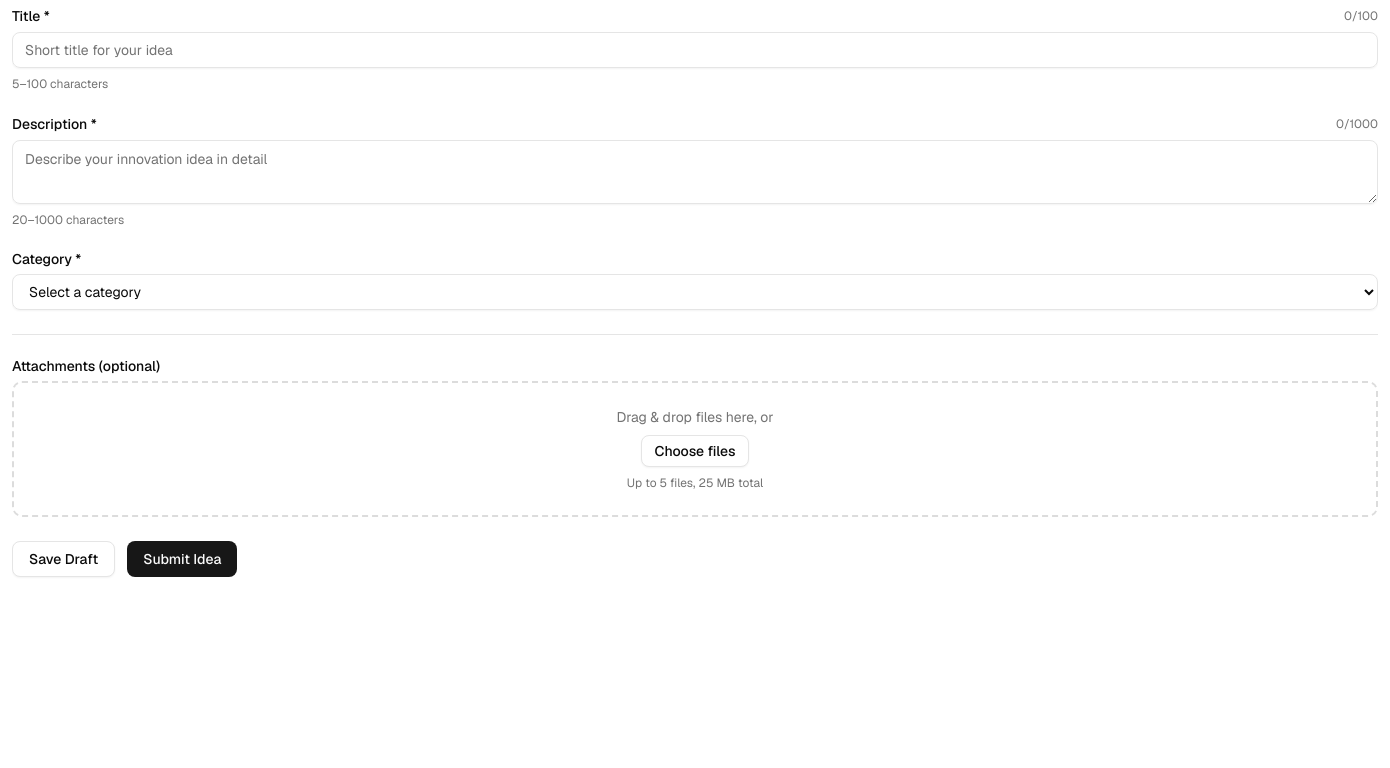
Test: IdeaForm — extended coverage › clears category fields when category is changed to empty
Select a category first
Select "Process Improvement" in the dropdown labelled "Category *": (695, 292) [12, 274, 1378, 310]
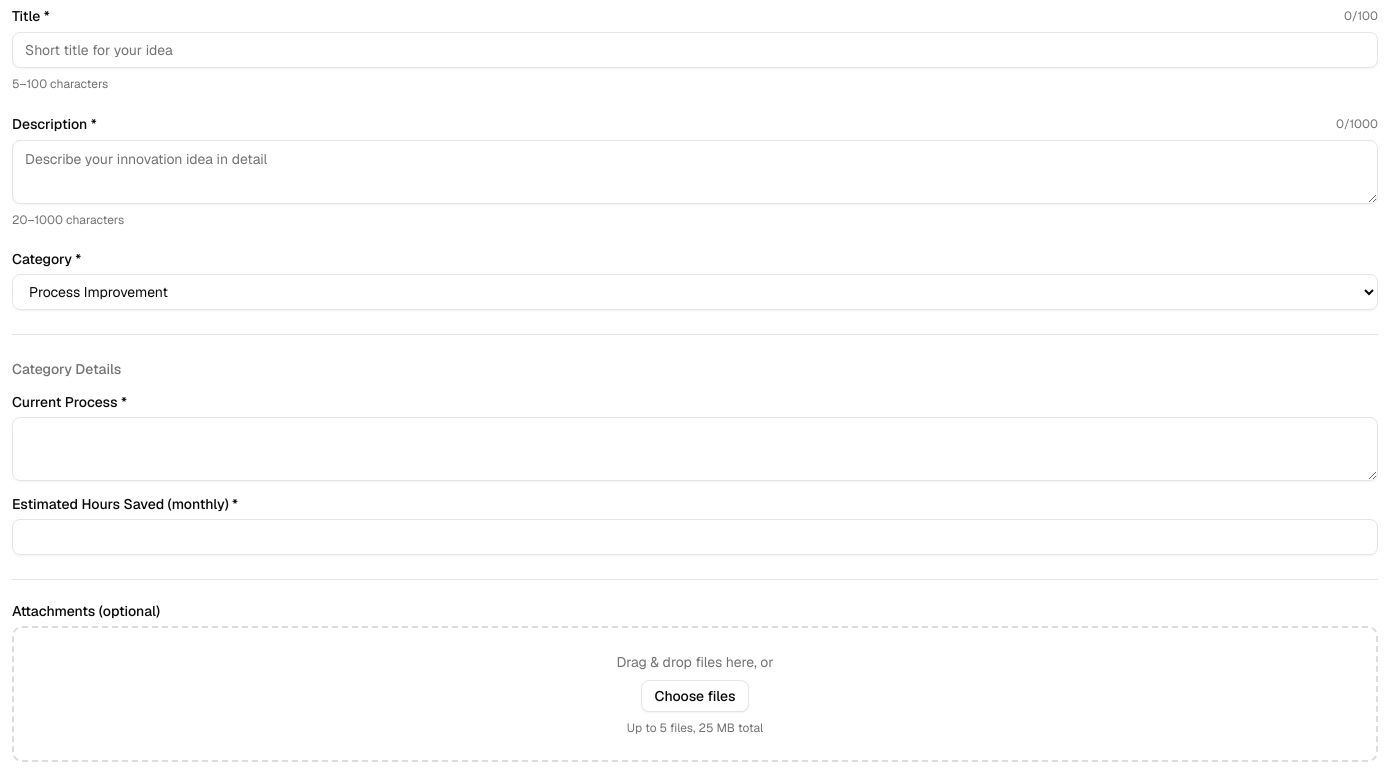
Now the heading "Category Details" is shown, box [12, 360, 121, 378]
Clear the category
Select "Select a category" in the dropdown labelled "Category *": (695, 292) [12, 274, 1378, 310]
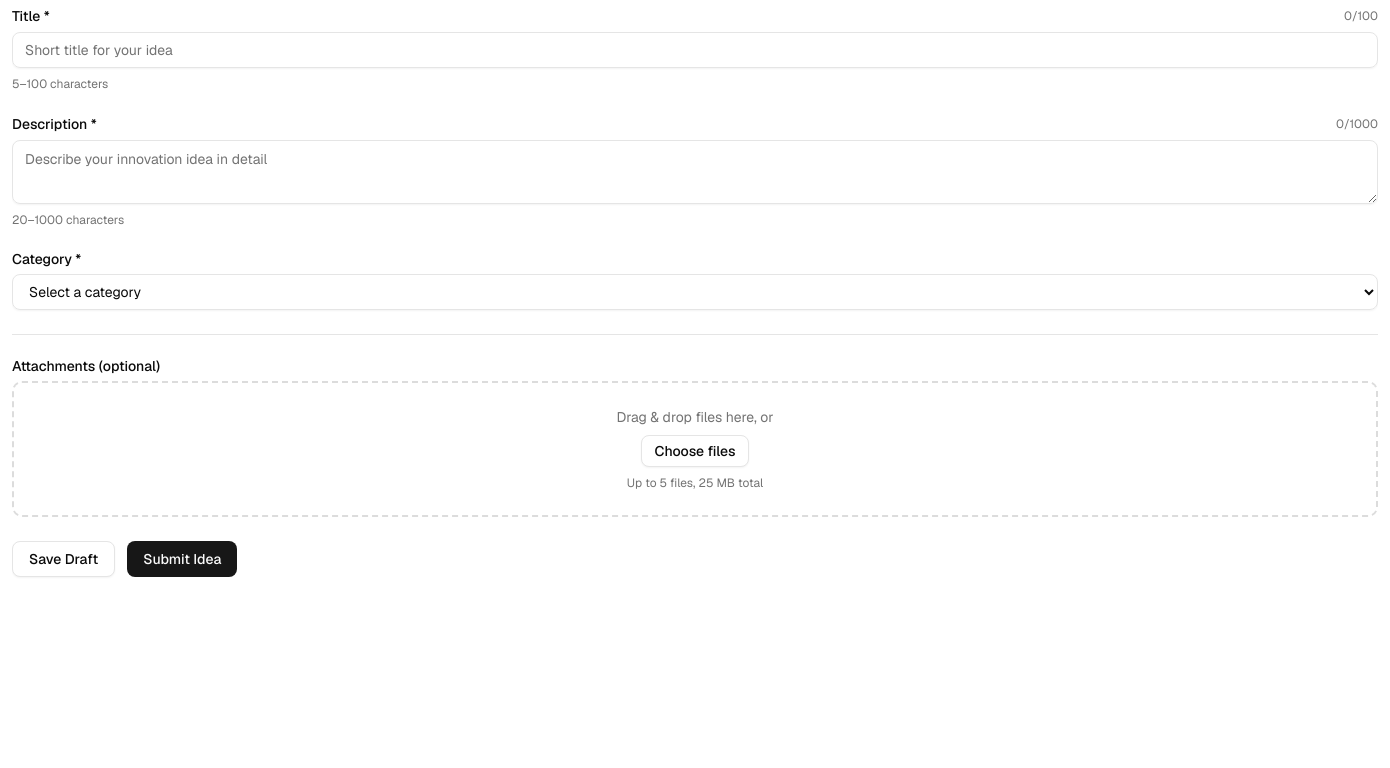
Now the heading "Category Details" is gone
